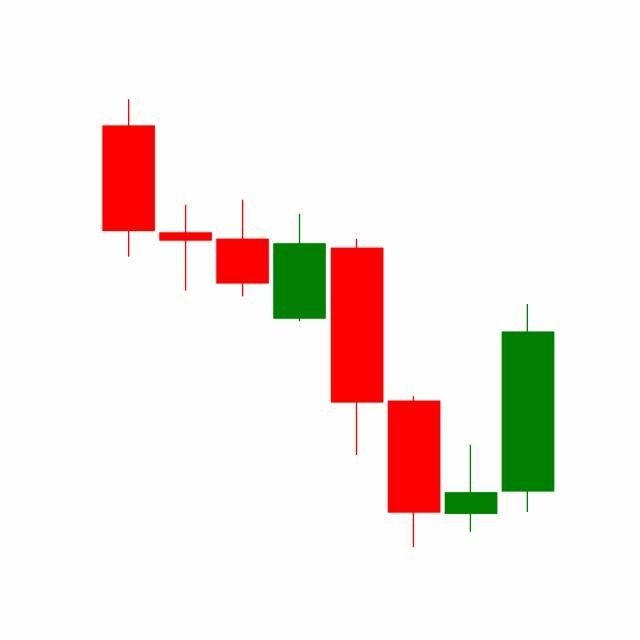Hikkake Pattern: (270, 210, 555, 549)
